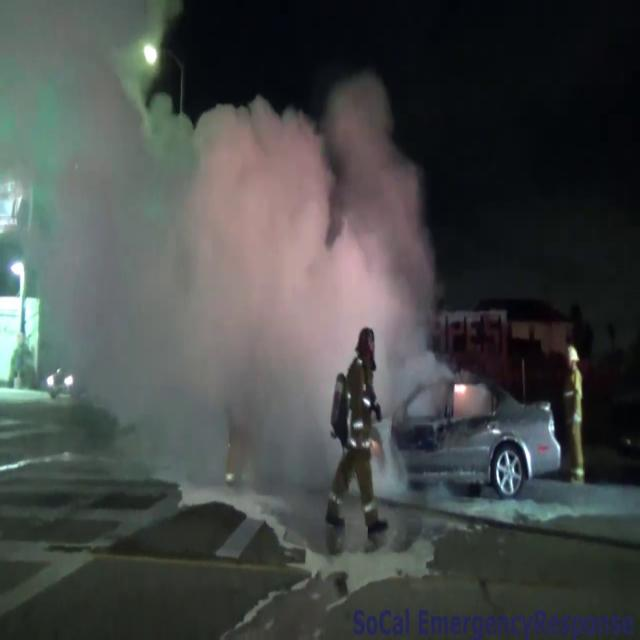Smoke: (70, 50, 459, 547)
